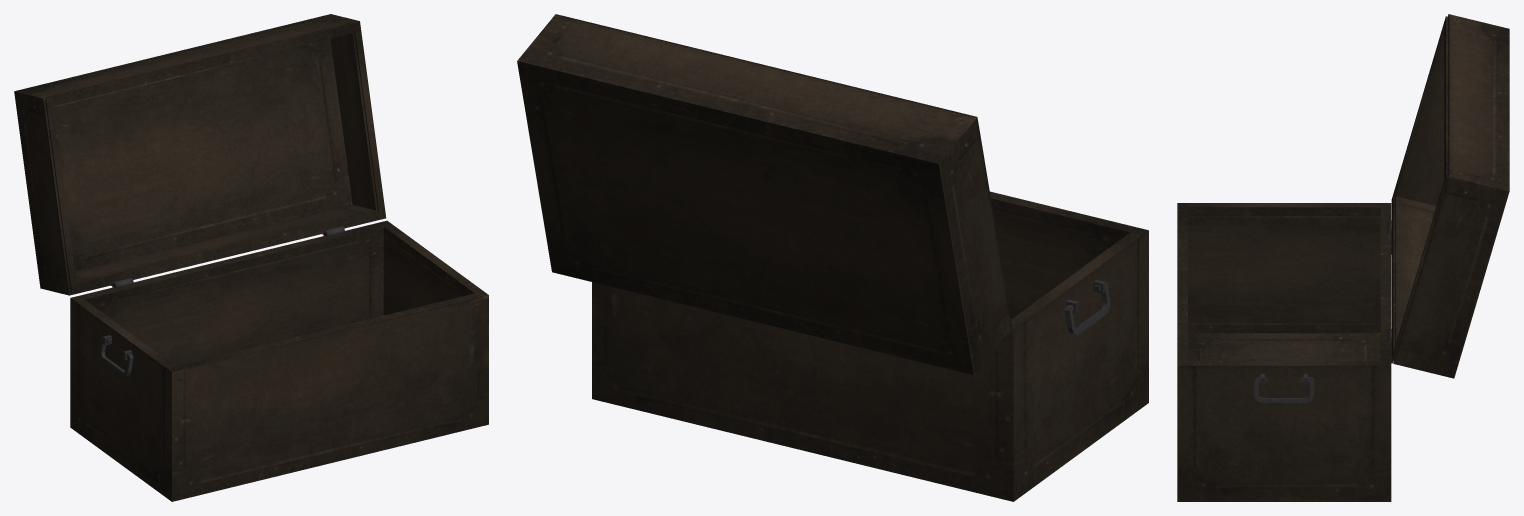
File: wooden_crate_2_c.obj
3 views of the same model, side by side, from view 1: azimuth 30°, elevation 25°; view 2: azimuth 150°, elevation 25°; view 3: azimuth 270°, elevation 25° (orthographic). The views are drawn at different scales.
Visible parts, largest first — view 1: wooden_crate_2_c, wooden_crate_2_c_lid; view 2: wooden_crate_2_c_lid, wooden_crate_2_c; view 3: wooden_crate_2_c, wooden_crate_2_c_lid.
Part boxes in pixels (x1,y1,x2,y2): wooden_crate_2_c: [70, 220, 488, 501]; wooden_crate_2_c_lid: [14, 14, 386, 295]; wooden_crate_2_c_lid: [517, 14, 1012, 374]; wooden_crate_2_c: [592, 191, 1148, 501]; wooden_crate_2_c: [1177, 203, 1392, 501]; wooden_crate_2_c_lid: [1391, 14, 1509, 378].
Bounding box in the file's own units: 0.9492 × 0.8393 × 0.7768.
